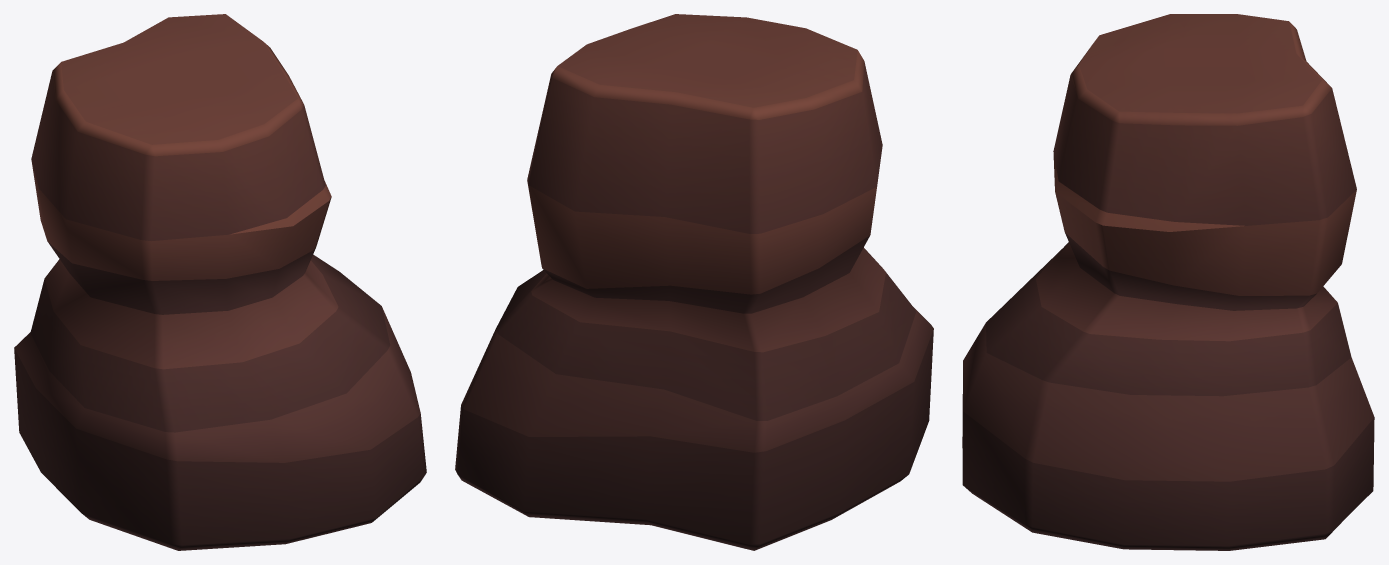
The model's file is rock_formation_07.fbx.
3 renders of one model, left to right at view 1: azimuth 30°, elevation 25°; view 2: azimuth 150°, elevation 25°; view 3: azimuth 270°, elevation 25°, orthographic. The views are drawn at different scales.
Parts seen in each view (by area): view 1: rock_formation_07; view 2: rock_formation_07; view 3: rock_formation_07.
Boxes of the visible parts, <box> form: rock_formation_07: <box>14,14,426,550</box>; rock_formation_07: <box>455,14,933,550</box>; rock_formation_07: <box>962,14,1374,550</box>.
Bounding box in the file's own units: 539 × 582 × 547.
